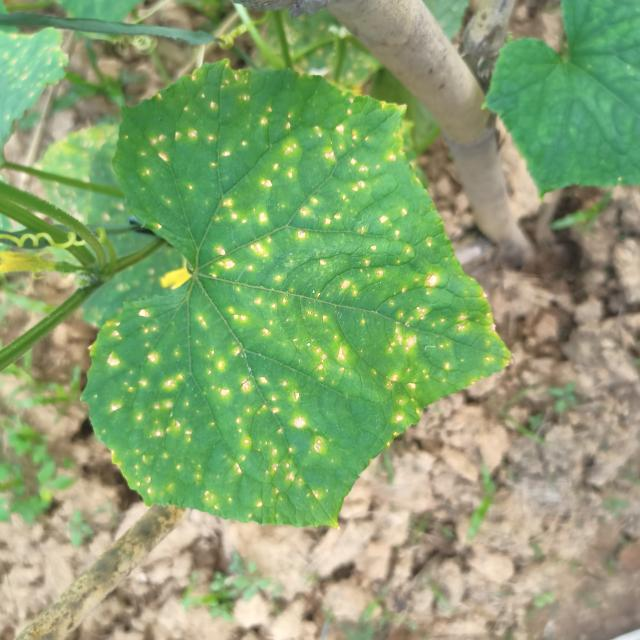disease_cucumber: (56, 84, 496, 516)
